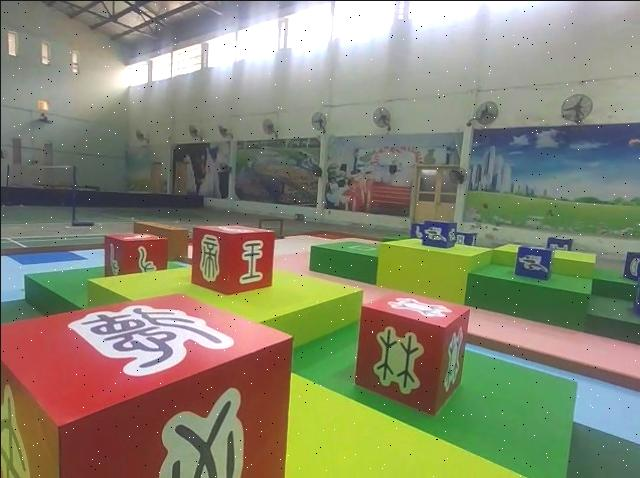R2 Fake: (0, 289, 296, 478), (187, 223, 274, 299)
R2 Real: (356, 292, 469, 417), (101, 230, 170, 281)
